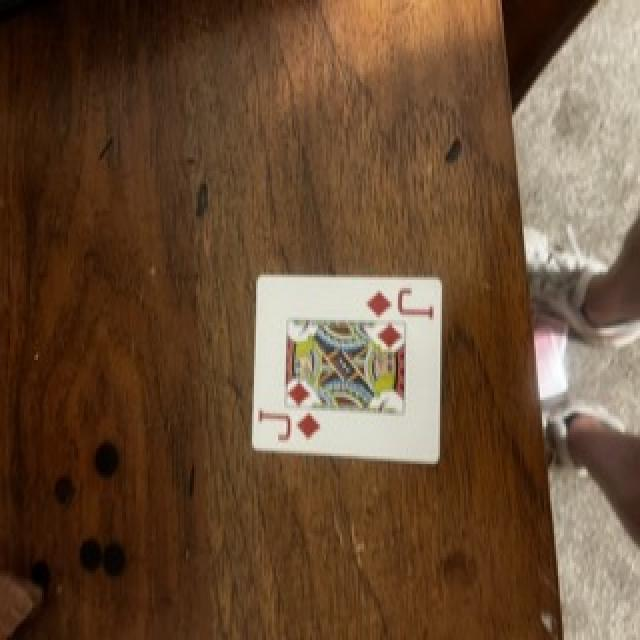Jack of diamonds: (252, 275, 442, 463)
